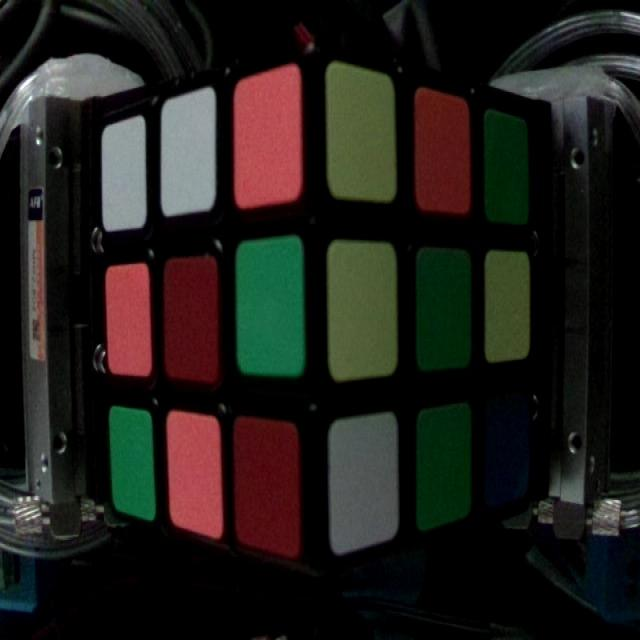b: (487, 395, 527, 501)
g: (241, 243, 301, 372), (421, 248, 470, 369), (416, 410, 467, 514), (111, 410, 153, 514), (487, 114, 526, 222)
o: (233, 83, 299, 201), (420, 89, 471, 212), (171, 414, 224, 530), (107, 267, 150, 376)
r: (236, 420, 299, 551), (168, 263, 216, 377)
w: (328, 420, 395, 548), (164, 99, 213, 214), (102, 123, 145, 232)
y: (329, 244, 399, 376), (331, 68, 398, 196), (488, 256, 529, 357)
